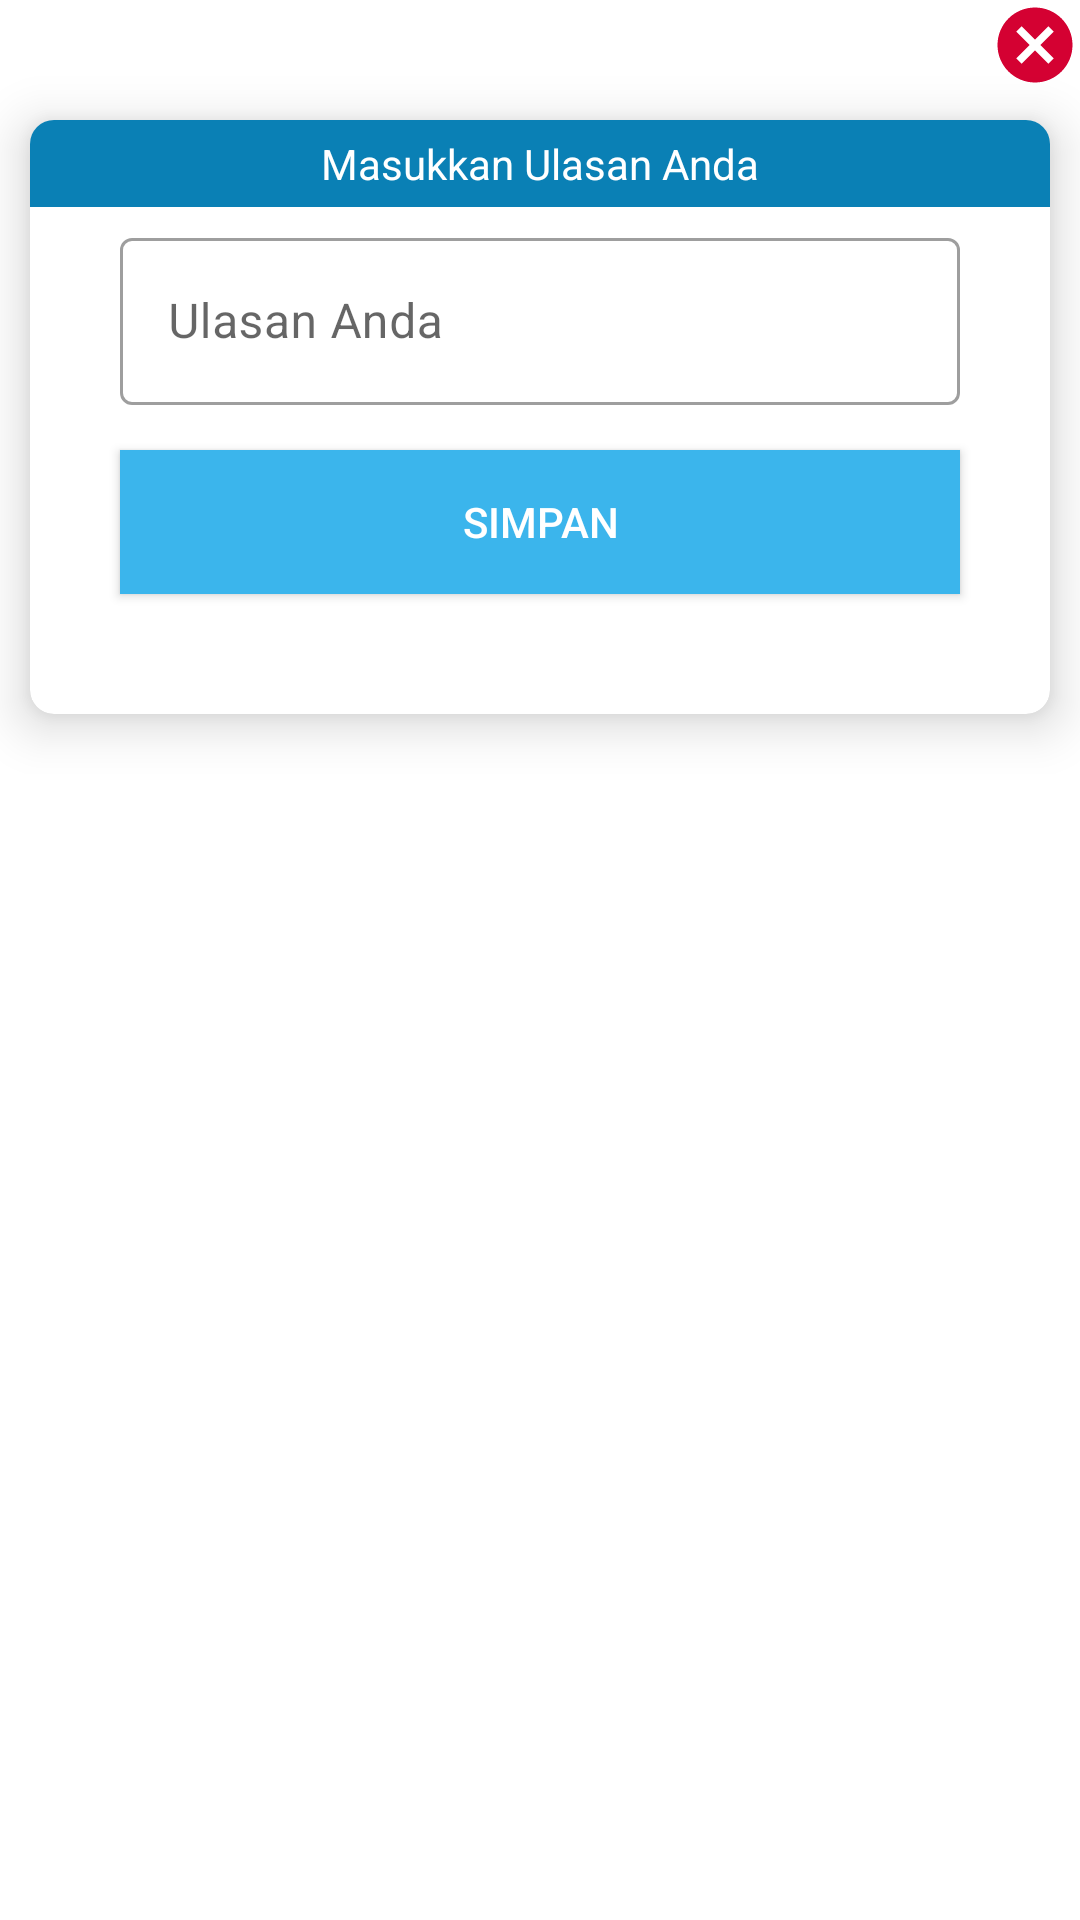

Screen size 1080*1920. Icon name, then its box in pixels as rect(x1, y1, x2, y2):
cancel: rect(997, 7, 1073, 83)
